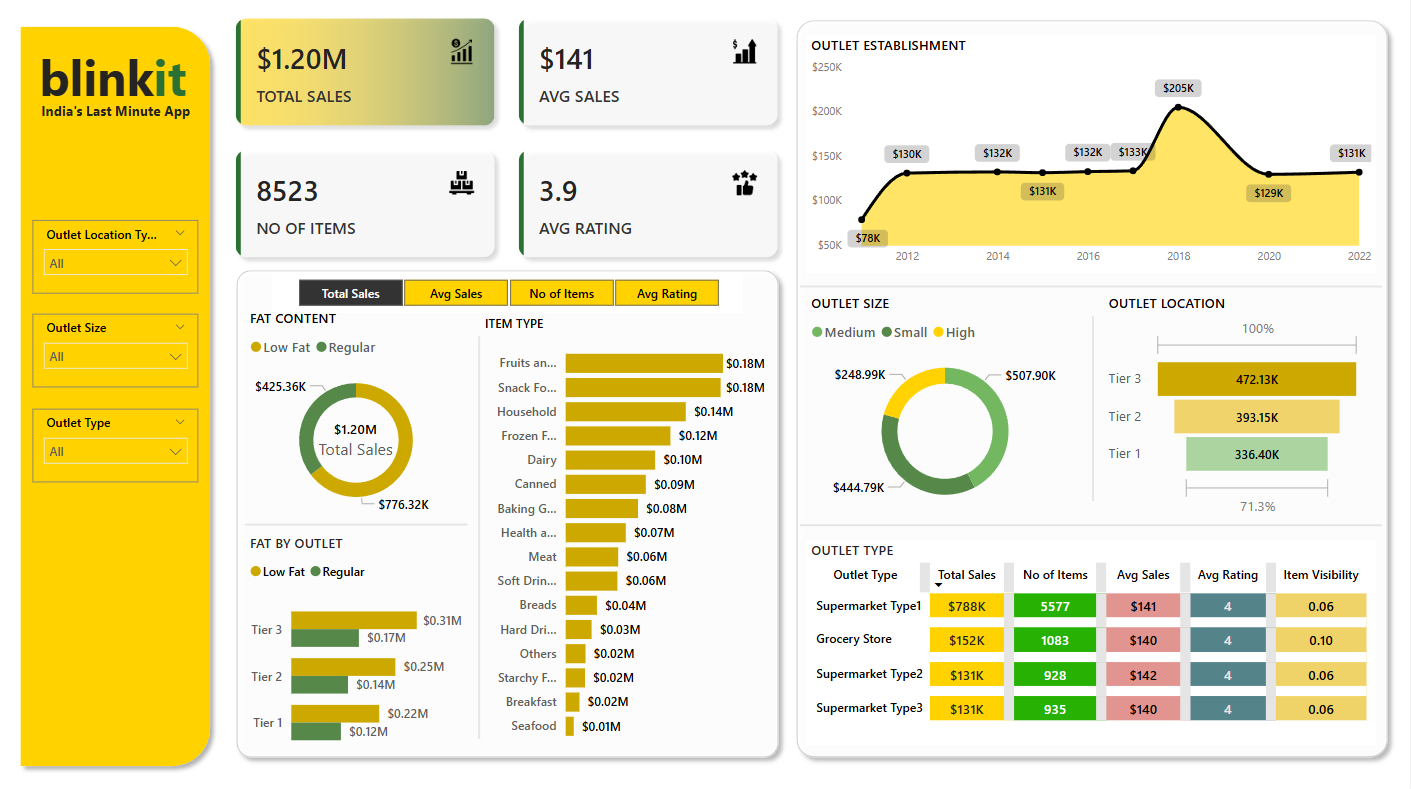

What the dashboard file says about the page in this screenshot:
{"tool":"powerbi","page":{"name":"blinkit ","canvas":[1400,800],"ordinal":0},"visuals":[{"type":"shape","box":[16.4,27.3,205.9,749.8],"z":0},{"type":"textbox","box":[25.9,47.7,181.3,77.7],"z":1000},{"type":"textbox","box":[34.3,105.7,170,28.6],"z":2000},{"type":"cardVisual","fields":{"Data":["BlinkIT Grocery Data.Total Sales","BlinkIT Grocery Data.Avg Sales","BlinkIT Grocery Data.No of Items","BlinkIT Grocery Data.Avg Rating"]},"box":[221.4,11.4,570,270],"z":3000},{"type":"shape","box":[230,268.6,554.3,500],"z":4000},{"type":"slicer","title":"FAT CONTENT","fields":{"Values":["BlinkIT Grocery Data.Outlet Location Type"]},"box":[37.1,227.1,164.3,72.9],"z":5000},{"type":"slicer","fields":{"Values":["Matrics.Matrics"]},"box":[274.3,280,465.7,40],"z":6000},{"type":"cardVisual","fields":{"Data":["BlinkIT Grocery Data.Total Sales"]},"box":[297.1,402.9,120,82.9],"z":7000},{"type":"clusteredBarChart","title":"FAT BY OUTLET","fields":{"Y":["BlinkIT Grocery Data.Total Sales"],"Category":["BlinkIT Grocery Data.Outlet Location Type"],"Series":["BlinkIT Grocery Data.Item Fat Content"]},"box":[247.1,538.6,220,230],"z":8000},{"type":"shape","box":[247.1,518.6,220,21.4],"z":9000},{"type":"shape","box":[452.9,342.9,52.9,398.6],"z":10000},{"type":"barChart","title":"ITEM TYPE","fields":{"Y":["BlinkIT Grocery Data.Total Sales"],"Category":["BlinkIT Grocery Data.Item Type"]},"box":[480,321.4,287.1,431.4],"z":11000},{"type":"shape","box":[784.3,21.4,602.9,747.1],"z":12000},{"type":"lineChart","title":"OUTLET ESTABLISHMENT","fields":{"Category":["BlinkIT Grocery Data.Outlet Establishment Year"],"Y":["BlinkIT Grocery Data.Total Sales"]},"box":[802.9,44.3,564.3,235.7],"z":13000},{"type":"shape","box":[797.1,287.1,575.7,12.9],"z":14000},{"type":"donutChart","title":"OUTLET SIZE","fields":{"Y":["BlinkIT Grocery Data.Total Sales"],"Category":["BlinkIT Grocery Data.Outlet Size"]},"box":[802.9,300,275,225],"z":15000},{"type":"shape","box":[1060,322.9,52.9,182.9],"z":16000},{"type":"funnel","title":"OUTLET LOCATION","fields":{"Y":["Sum(BlinkIT Grocery Data.Sales)"],"Category":["BlinkIT Grocery Data.Outlet Location Type"]},"box":[1097.1,300,260,225.7],"z":17000},{"type":"shape","box":[797.1,522.9,575.7,12.9],"z":18000},{"type":"pivotTable","title":"OUTLET TYPE","fields":{"Rows":["BlinkIT Grocery Data.Outlet Type"],"Values":["BlinkIT Grocery Data.Total Sales","BlinkIT Grocery Data.No of Items","BlinkIT Grocery Data.Avg Sales","BlinkIT Grocery Data.Avg Rating","Avg(BlinkIT Grocery Data.Item Visibility)"]},"box":[802.9,544.3,564.3,202.9],"z":19000},{"type":"slicer","title":"FAT CONTENT","fields":{"Values":["BlinkIT Grocery Data.Outlet Size"]},"box":[37.1,320,164.3,72.9],"z":20000},{"type":"donutChart","title":"FAT CONTENT","fields":{"Y":["BlinkIT Grocery Data.Total Sales"],"Category":["BlinkIT Grocery Data.Item Fat Content"]},"box":[247.1,315.7,220,212.9],"z":20001},{"type":"slicer","title":"FAT CONTENT","fields":{"Values":["BlinkIT Grocery Data.Outlet Type"]},"box":[37.1,414.3,164.3,72.9],"z":20002}]}

Visuals, with their boxes in screenshot pixels (x1, y1, x2, y2), scaled from the page's 1400x800 canvas onto the 1411x789 screenshot:
shape: box(17, 27, 224, 766)
textbox: box(26, 47, 209, 124)
textbox: box(35, 104, 206, 132)
cardVisual - BlinkIT Grocery Data.Total Sales x BlinkIT Grocery Data.Avg Sales: box(223, 11, 798, 278)
shape: box(232, 265, 790, 758)
"FAT CONTENT" slicer: box(37, 224, 203, 296)
slicer - Matrics.Matrics: box(276, 276, 746, 316)
cardVisual - BlinkIT Grocery Data.Total Sales: box(299, 397, 420, 479)
"FAT BY OUTLET" clusteredBarChart: box(249, 531, 471, 758)
shape: box(249, 511, 471, 533)
shape: box(456, 338, 510, 731)
"ITEM TYPE" barChart: box(484, 317, 773, 742)
shape: box(790, 21, 1398, 758)
"OUTLET ESTABLISHMENT" lineChart: box(809, 44, 1378, 276)
shape: box(803, 283, 1384, 296)
"OUTLET SIZE" donutChart: box(809, 296, 1086, 518)
shape: box(1068, 318, 1122, 499)
"OUTLET LOCATION" funnel: box(1106, 296, 1368, 518)
shape: box(803, 516, 1384, 528)
"OUTLET TYPE" pivotTable: box(809, 537, 1378, 737)
"FAT CONTENT" slicer: box(37, 316, 203, 387)
"FAT CONTENT" donutChart: box(249, 311, 471, 521)
"FAT CONTENT" slicer: box(37, 409, 203, 481)
